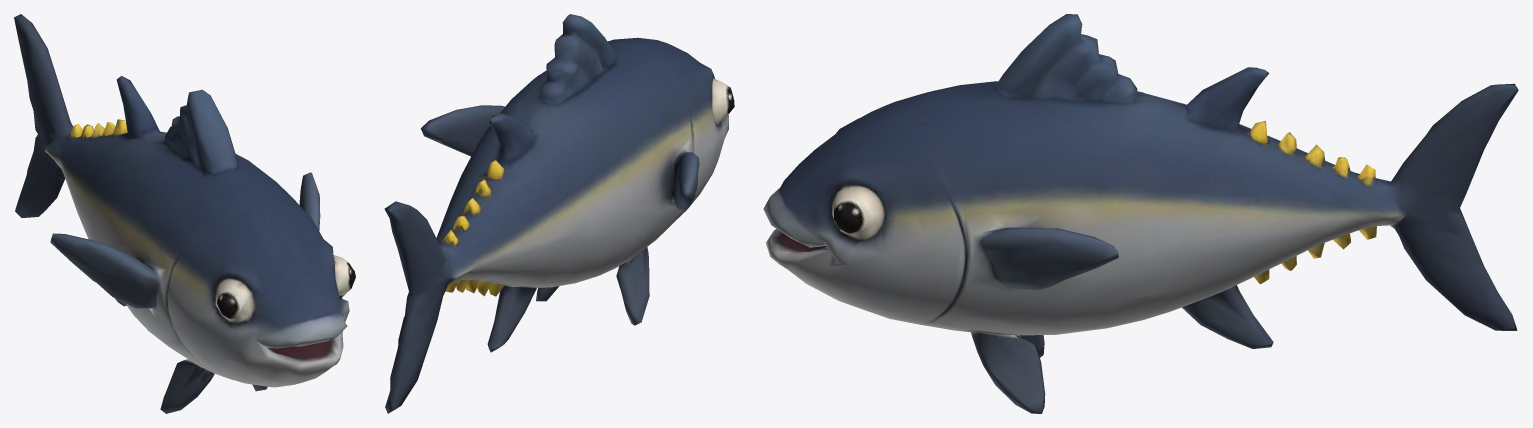
The model's file is fish-tuna.glb.
The picture shows the model from 3 angles, left to right: view 1: azimuth 30°, elevation 25°; view 2: azimuth 150°, elevation 25°; view 3: azimuth 270°, elevation 25°; orthographic projection. The views are drawn at different scales.
Visible parts, largest first — view 1: tripo_node_11bc3453-331a-4d93-965e-7a09430530f8; view 2: tripo_node_11bc3453-331a-4d93-965e-7a09430530f8; view 3: tripo_node_11bc3453-331a-4d93-965e-7a09430530f8.
Boxes of the visible parts, x1,y1,x2,y2 form: tripo_node_11bc3453-331a-4d93-965e-7a09430530f8: [14, 14, 355, 413]; tripo_node_11bc3453-331a-4d93-965e-7a09430530f8: [384, 14, 734, 413]; tripo_node_11bc3453-331a-4d93-965e-7a09430530f8: [763, 14, 1518, 413].
Bounding box in the file's own units: 0.4925 × 0.541 × 1.
Materials: 1 (1 with a texture image).
